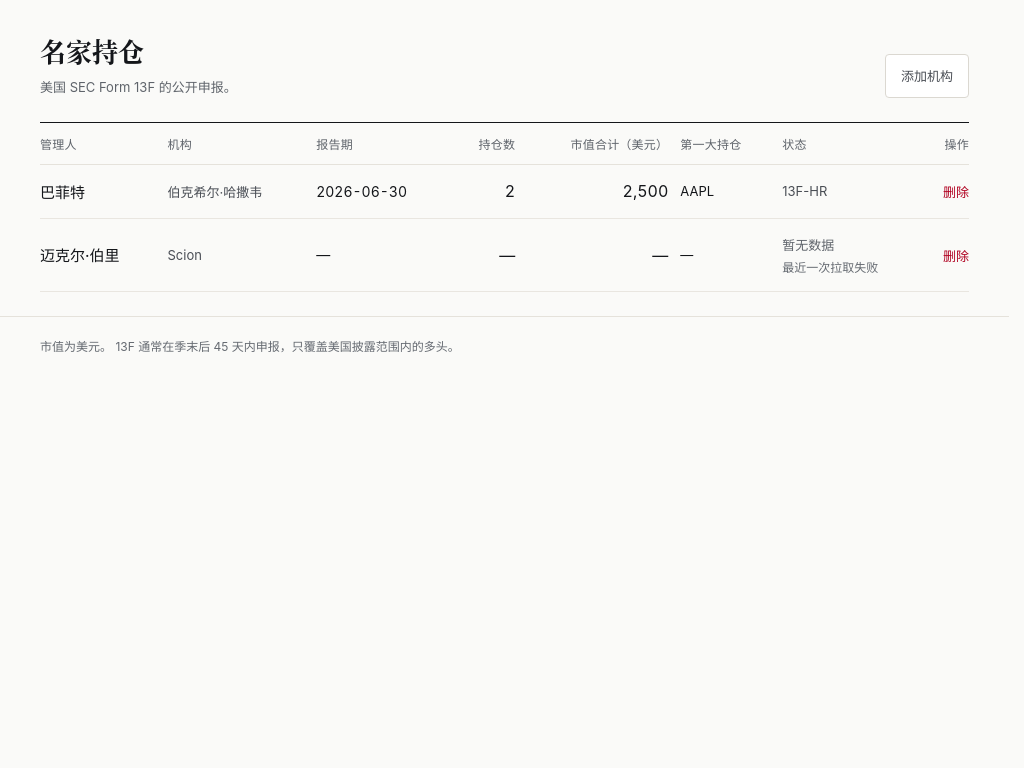
Scenario: 按 Esc 或点遮罩会关掉添加弹窗
The image size is (1024, 768).
Click the button "添加机构": (927, 76) [885,54,969,98]
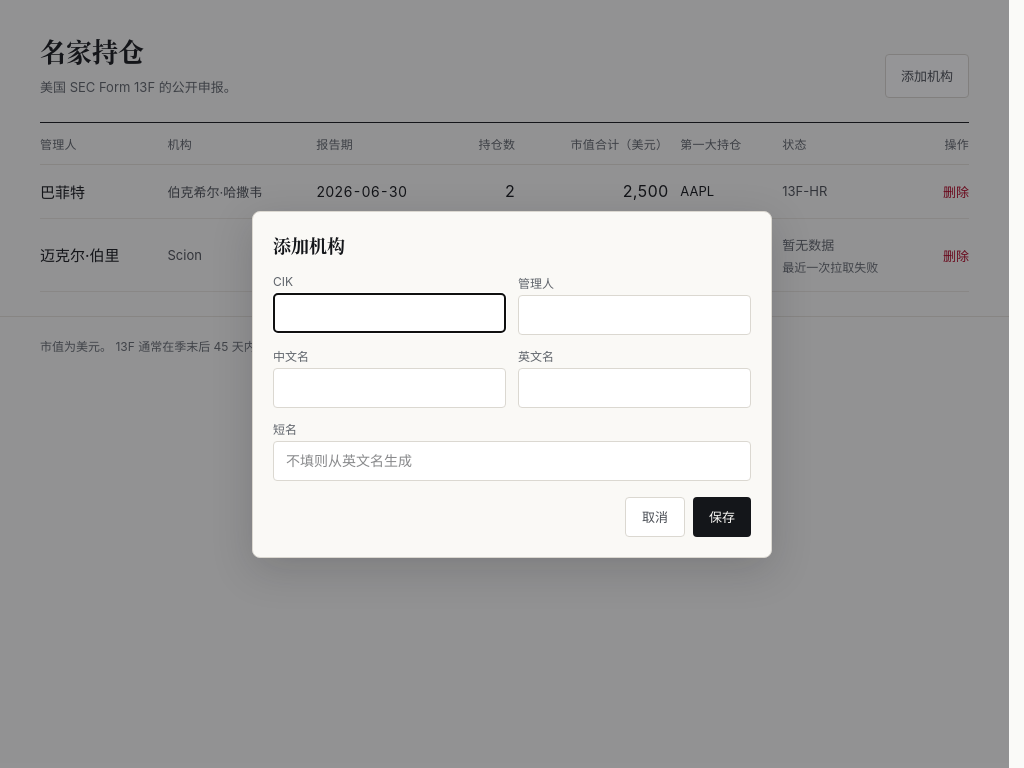
Expected: the dialog "添加机构" is shown, [252,210,772,558]
Press Escape
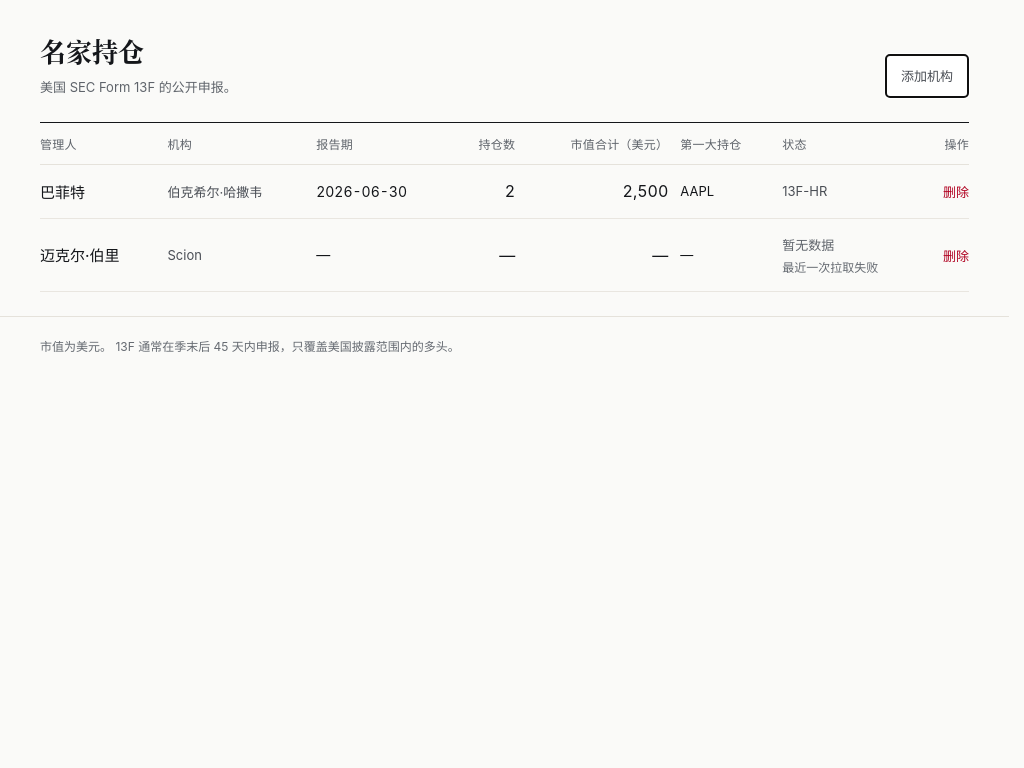
Expected: the dialog is gone
Click the button "添加机构": (927, 76) [885,54,969,98]
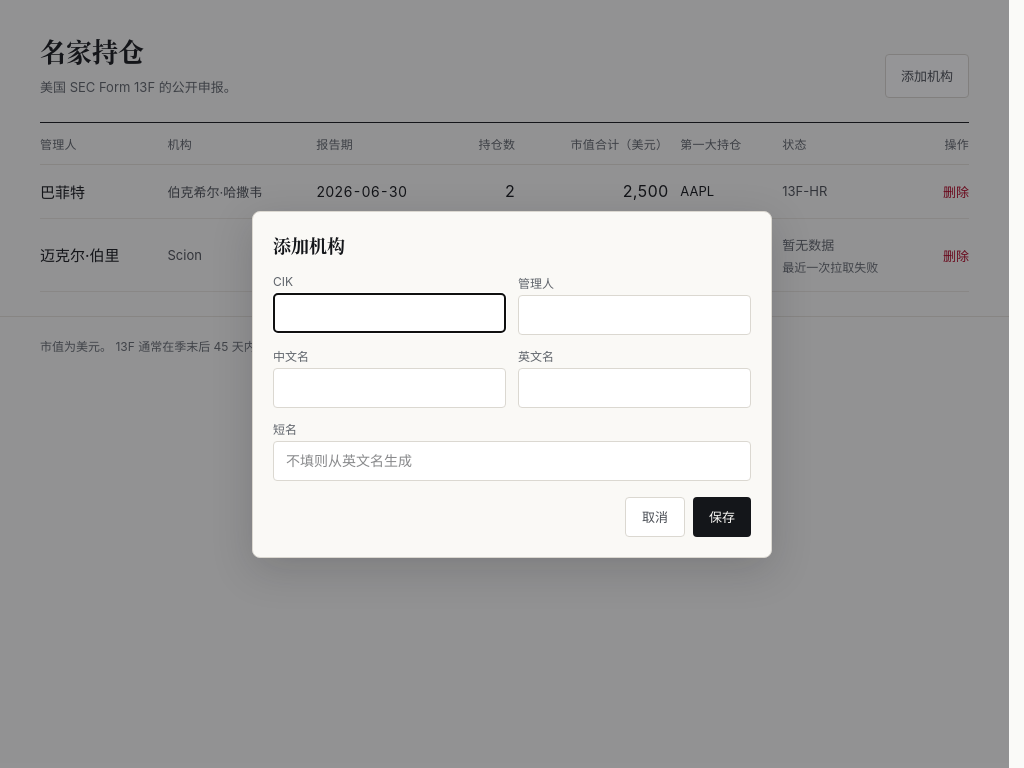
Press the mouse on the element showing "添加机构 CIK 管理人 中文名 英文名 短名 取消 保存": (512, 384) [0,0,1023,767]
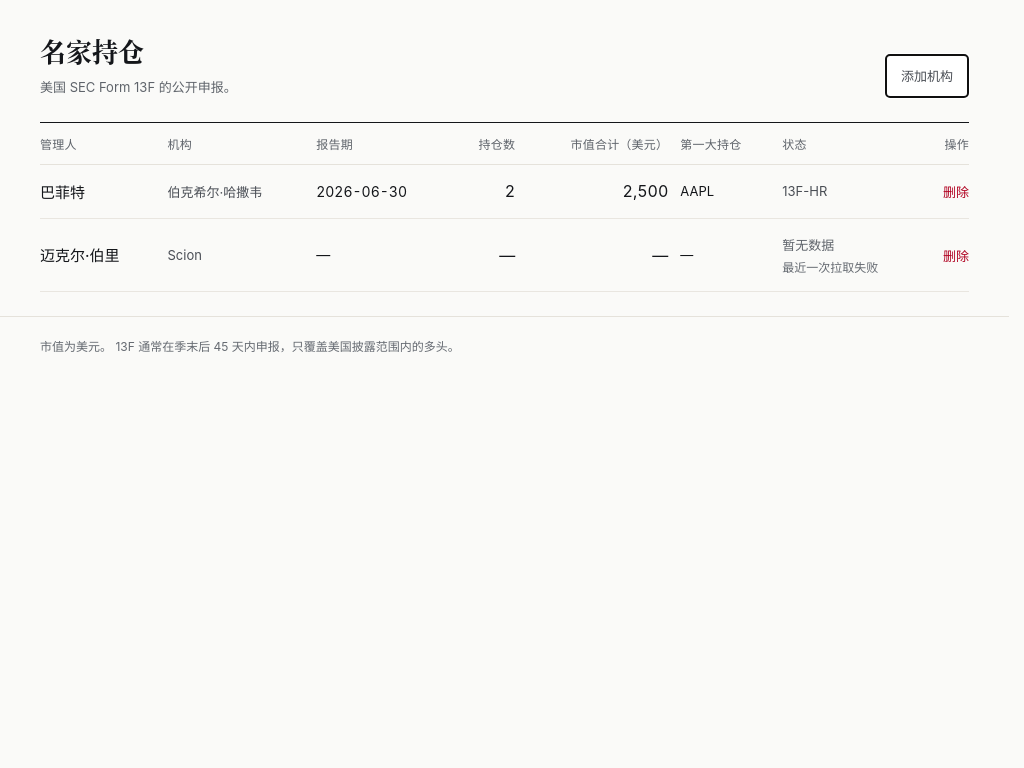
Expected: the dialog is gone
